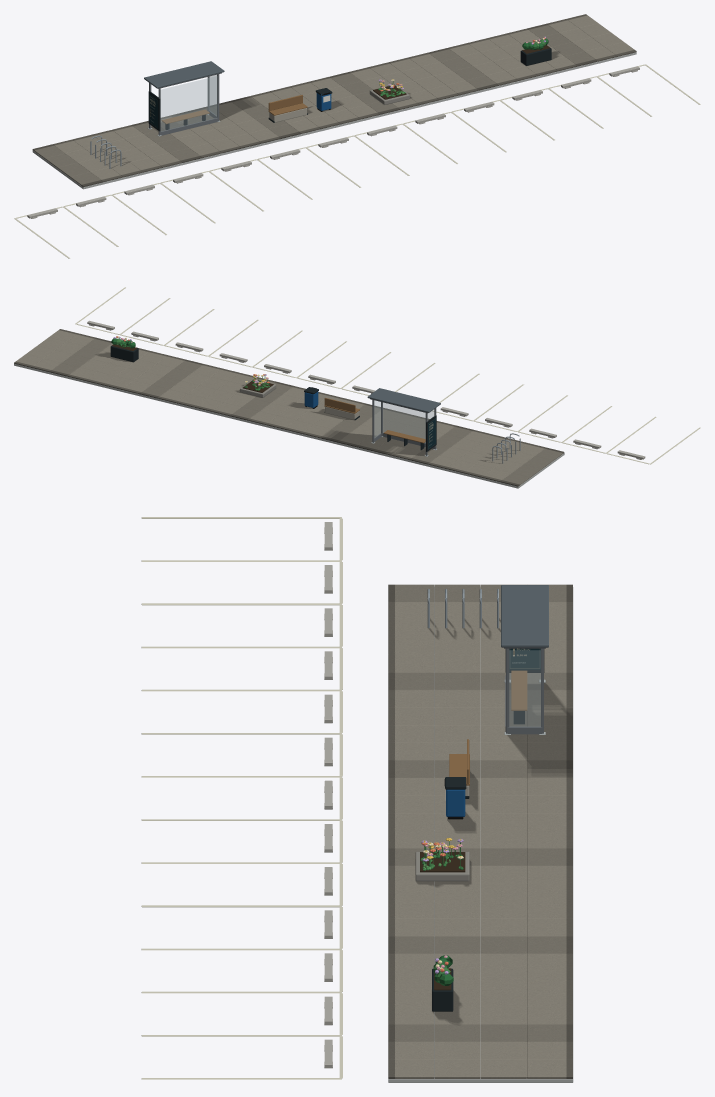
Rendered from museum-transit-stop.glb.
3 renders of one model, top to bottom at view 1: azimuth 30°, elevation 25°; view 2: azimuth 150°, elevation 25°; view 3: azimuth 270°, elevation 25°, orthographic. The views are drawn at different scales.
Parts seen in each view (by area): view 1: Passenger platform slab 0-0, Passenger platform bedding, SK_bike_rack, SK_bus_shelter_039835; view 2: Passenger platform slab 0-0, Passenger platform bedding, SK_bike_rack, SK_bus_shelter_039835; view 3: Passenger platform slab 0-0, Passenger platform bedding, SK_bike_rack, SK_bus_shelter_039835.
Boxes of the visible parts, <box> form: Passenger platform slab 0-0: <box>32,14,636,187</box>; Passenger platform bedding: <box>14,52,700,258</box>; SK_bike_rack: <box>90,36,551,168</box>; SK_bus_shelter_039835: <box>161,75,217,131</box>; Passenger platform slab 0-0: <box>14,329,564,486</box>; Passenger platform bedding: <box>14,287,700,488</box>; SK_bike_rack: <box>110,336,520,463</box>; SK_bus_shelter_039835: <box>374,400,433,442</box>; Passenger platform slab 0-0: <box>388,584,572,1078</box>; Passenger platform bedding: <box>141,517,573,1082</box>; SK_bike_rack: <box>415,585,548,1011</box>; SK_bus_shelter_039835: <box>509,650,540,726</box>.
Bounding box in the file's own units: 34.73 × 2.83 × 11.2.
6 materials, 6 textured.
